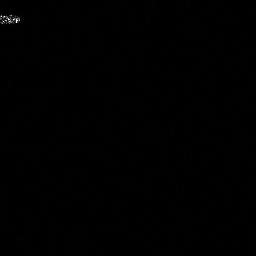ship: (1, 14, 21, 23)
